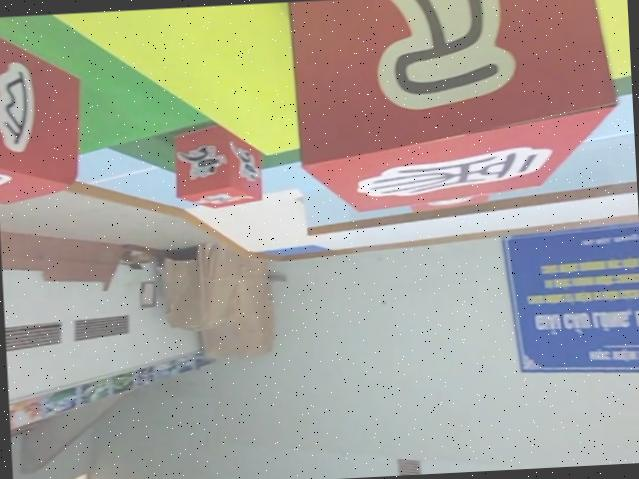R1: (171, 124, 263, 211)
R2 Fake: (287, 0, 622, 215)
R2 Real: (0, 12, 85, 205)
